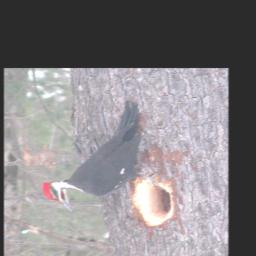Woodpecker: (39, 100, 165, 211)
